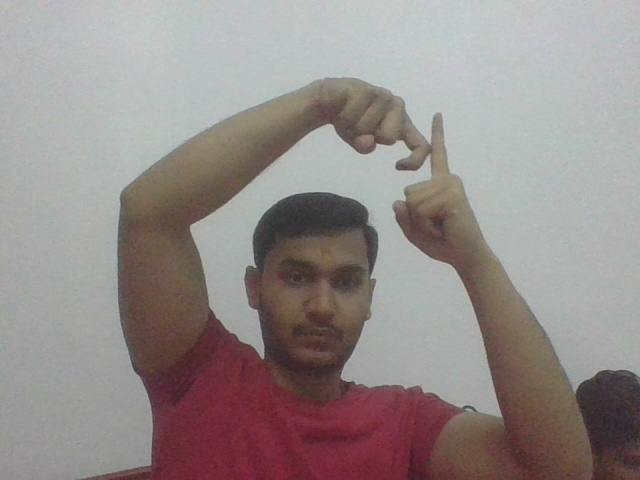K: (385, 95, 460, 191)
